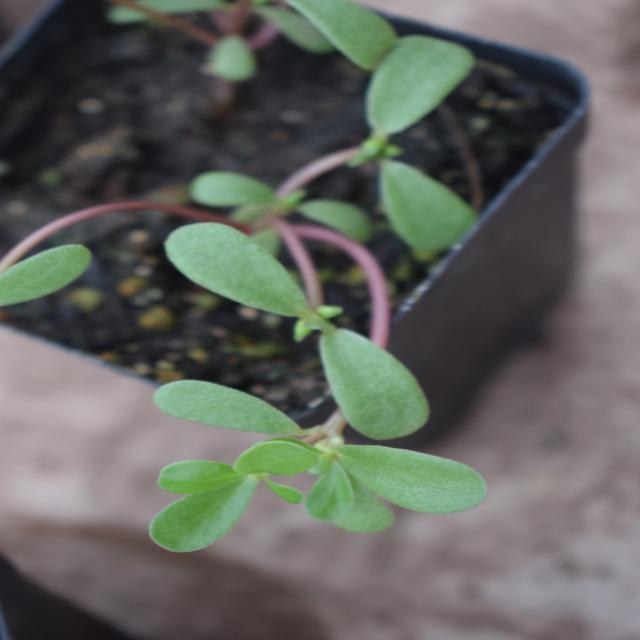purslane: (46, 134, 422, 451)
